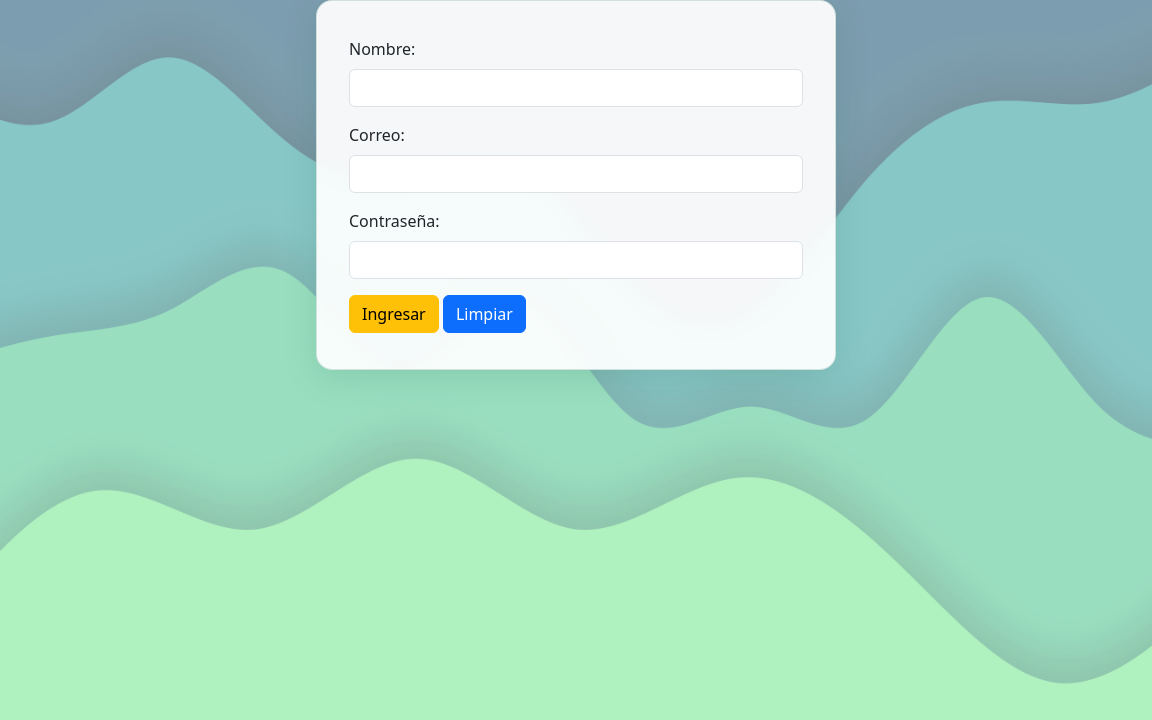
Scenario: FormularioLogin › PU-002: Debe mostrar un error y no iniciar sesión con credenciales incorrectas
Type "admin" into the field labelled "Nombre:".
click(576, 88); type("admin")  # box x1=349 y1=69 x2=803 y2=107
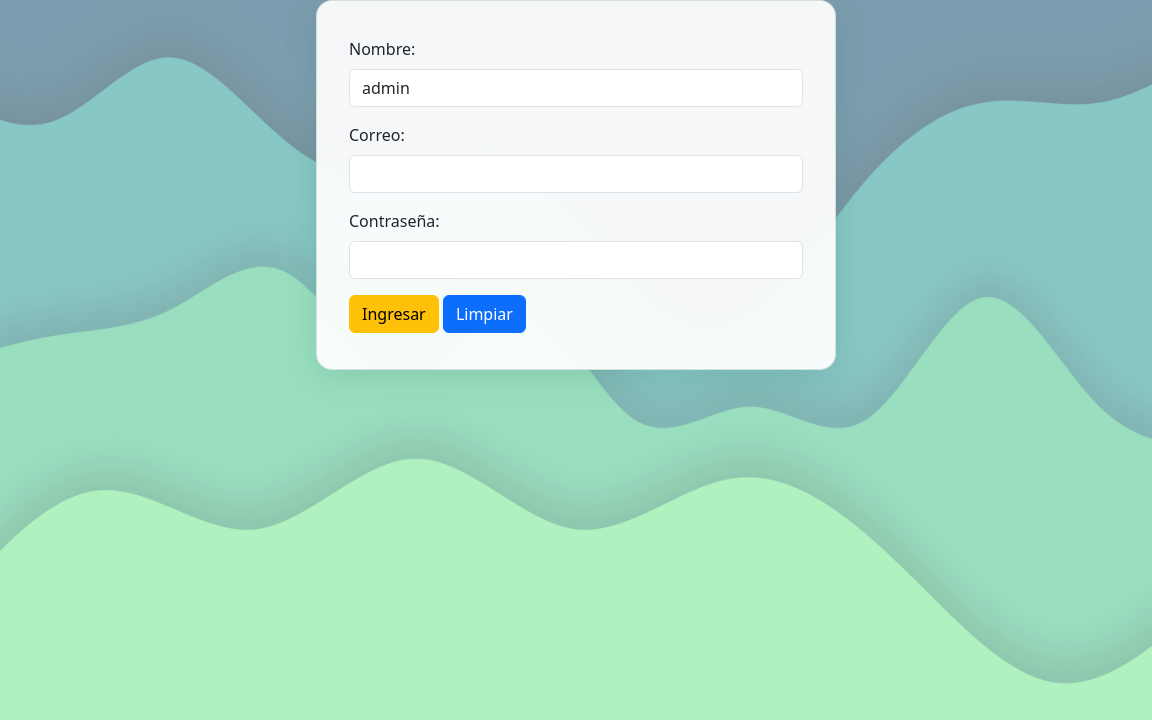
Type "admin@gmail.com" into the field labelled "Correo:".
click(576, 174); type("admin@gmail.com")  # box x1=349 y1=155 x2=803 y2=193
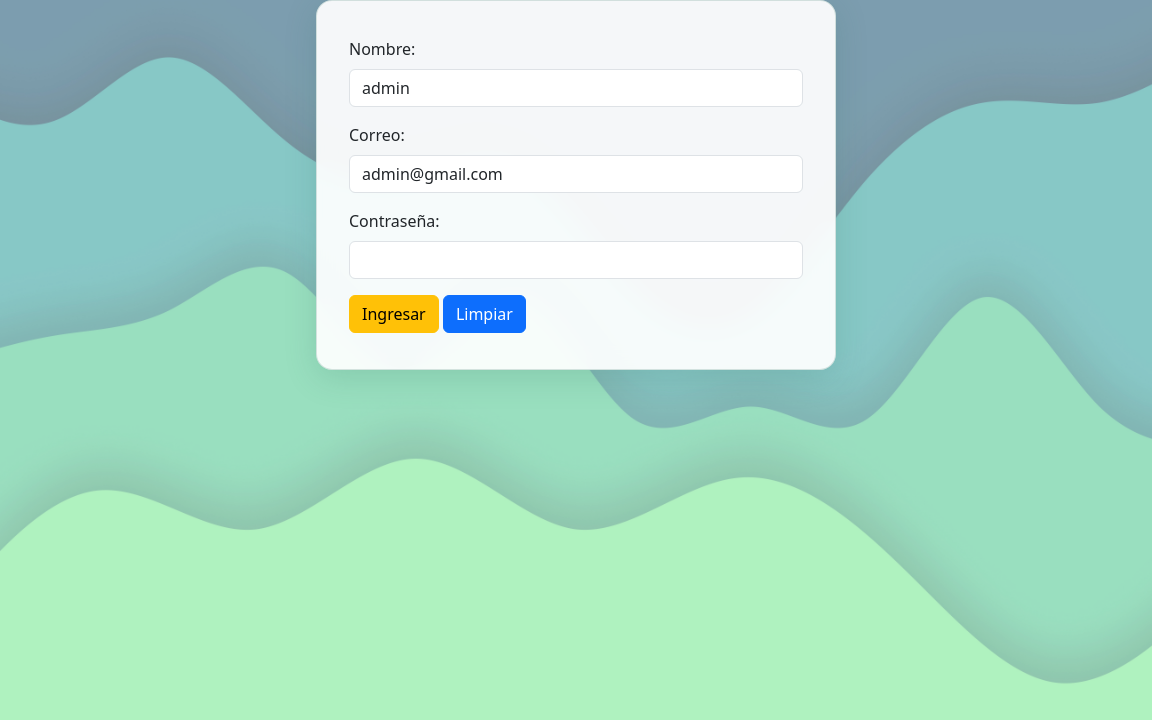
Type "incorrecta" into the password field labelled "Contraseña:".
click(576, 260); type("incorrecta")  # box x1=349 y1=241 x2=803 y2=279
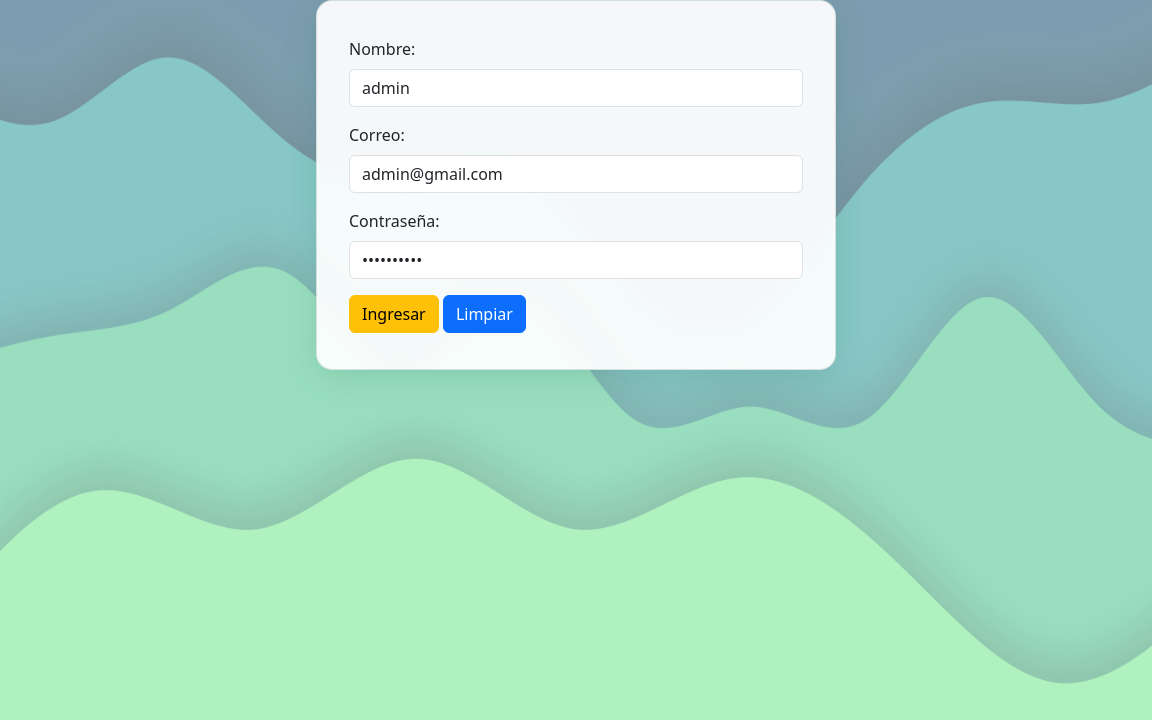
Click the button "Ingresar".
click(394, 314)  # box x1=349 y1=295 x2=439 y2=333
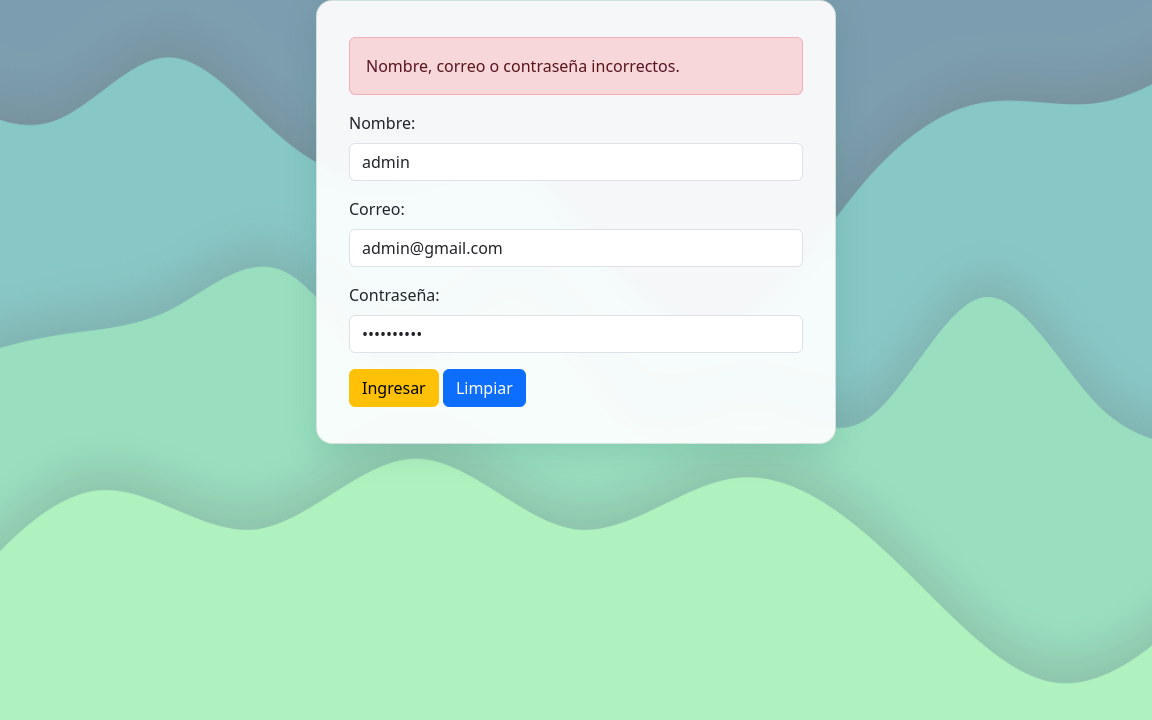
Expected: the text "Nombre, correo o contraseña incorrectos." is shown, x1=349 y1=37 x2=803 y2=95
